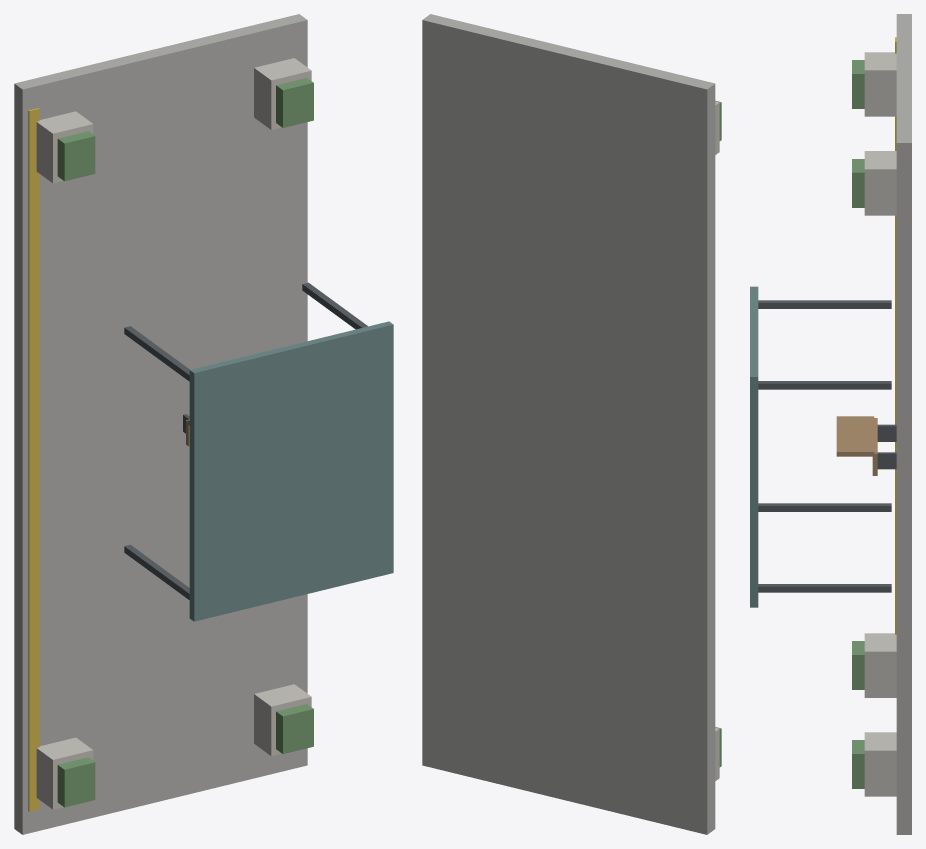
Rendered from raised_platform_stop.glb.
3 views of the same model, side by side, from view 1: azimuth 30°, elevation 25°; view 2: azimuth 150°, elevation 25°; view 3: azimuth 270°, elevation 25° (orthographic). The views are drawn at different scales.
Visible parts, largest first — view 1: 0000_Paved_stop_platform, 0002_Canopy_roof, 0001_Yellow_accessible_edge, 0015_Planter_box, 0017_Planter_box, 0011_Planter_box, 0013_Planter_box, 0014_Plants, 0012_Plants, 0016_Plants, 0018_Plants, 0004_Post (+2 smaller); view 2: 0000_Paved_stop_platform; view 3: 0000_Paved_stop_platform, 0002_Canopy_roof, 0015_Planter_box, 0017_Planter_box, 0011_Planter_box, 0013_Planter_box, 0008_Bench_back, 0003_Post, 0004_Post, 0005_Post, 0006_Post, 0001_Yellow_accessible_edge (+6 smaller).
Part boxes in pixels (x1,y1,x2,y2): 0000_Paved_stop_platform: [14, 14, 307, 834]; 0002_Canopy_roof: [189, 321, 393, 621]; 0001_Yellow_accessible_edge: [28, 108, 39, 811]; 0015_Planter_box: [254, 684, 311, 756]; 0017_Planter_box: [254, 58, 311, 129]; 0011_Planter_box: [36, 737, 93, 809]; 0013_Planter_box: [36, 111, 93, 183]; 0014_Plants: [57, 131, 95, 181]; 0012_Plants: [57, 757, 95, 807]; 0016_Plants: [276, 704, 313, 753]; 0018_Plants: [276, 78, 313, 127]; 0004_Post: [124, 326, 189, 381]; 0000_Paved_stop_platform: [422, 14, 715, 834]; 0000_Paved_stop_platform: [896, 14, 911, 834]; 0002_Canopy_roof: [750, 286, 758, 607]; 0015_Planter_box: [864, 732, 896, 796]; 0017_Planter_box: [864, 151, 896, 215]; 0011_Planter_box: [864, 633, 896, 697]; 0013_Planter_box: [864, 52, 896, 116]; 0008_Bench_back: [836, 416, 874, 456]; 0003_Post: [758, 503, 891, 511]; 0004_Post: [758, 300, 891, 308]; 0005_Post: [758, 584, 891, 592]; 0006_Post: [758, 381, 891, 389]; 0001_Yellow_accessible_edge: [895, 37, 896, 634].
Bounding box in the file's own units: 6.15 × 15 × 3.18.
